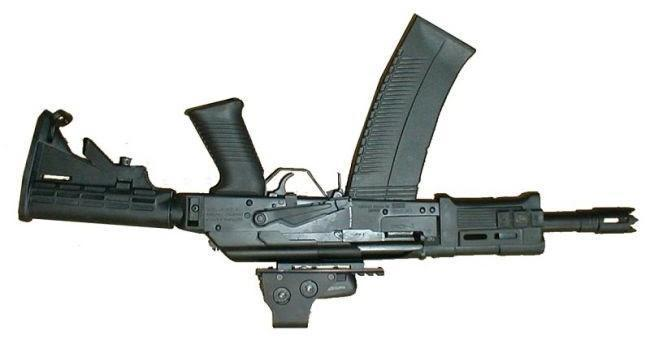gun: (179, 44, 453, 344)
